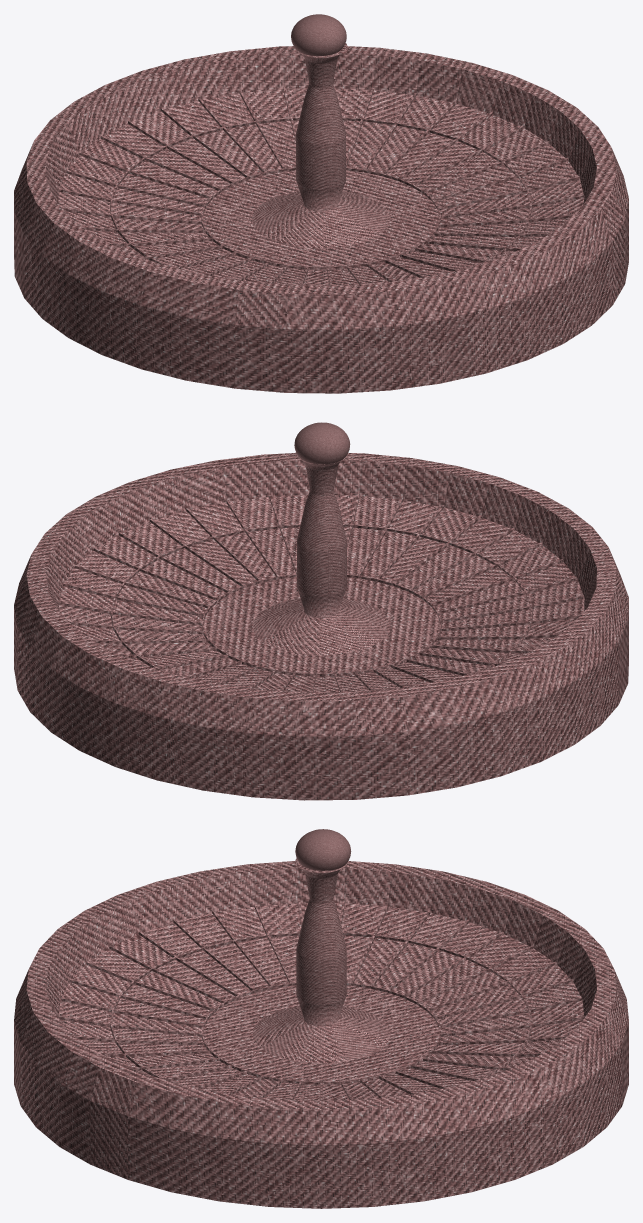
Rendered from ruleta.fbx.
3 views of the same model, one above another, from view 1: azimuth 30°, elevation 25°; view 2: azimuth 150°, elevation 25°; view 3: azimuth 270°, elevation 25° (orthographic).
Visible parts, largest first — view 1: Cylinder001, Cone001, Sphere001; view 2: Cylinder001, Cone001, Sphere001; view 3: Cylinder001, Cone001, Sphere001.
Boxes of the visible parts, x1,y1,x2,y2 form: Cylinder001: [14, 46, 628, 393]; Cone001: [252, 43, 389, 248]; Sphere001: [291, 14, 346, 55]; Cylinder001: [14, 453, 628, 800]; Cone001: [253, 452, 390, 655]; Sphere001: [294, 422, 350, 466]; Cylinder001: [14, 861, 628, 1208]; Cone001: [253, 858, 389, 1063]; Sphere001: [295, 829, 351, 870].
Size of the model in its own units: 138 by 60.81 by 138.
